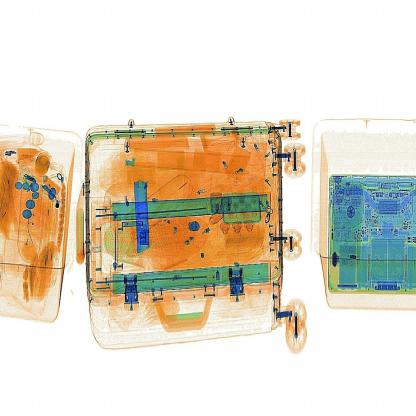pliers: (126, 170, 161, 257)
